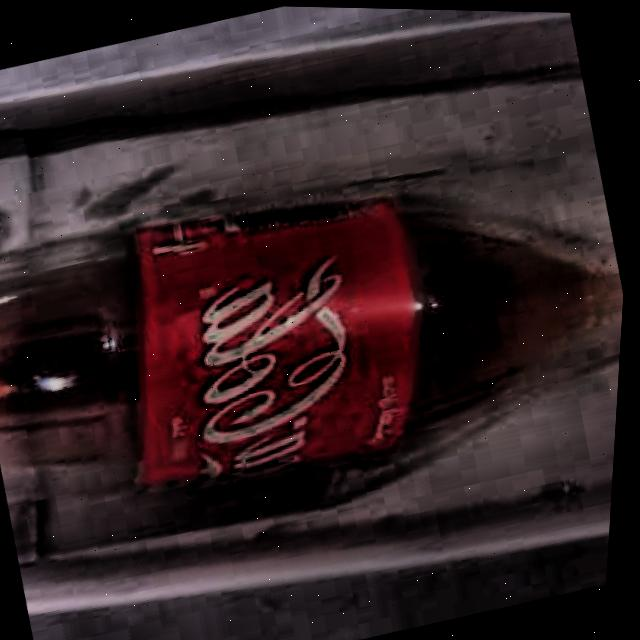plastic: (0, 46, 638, 612)
